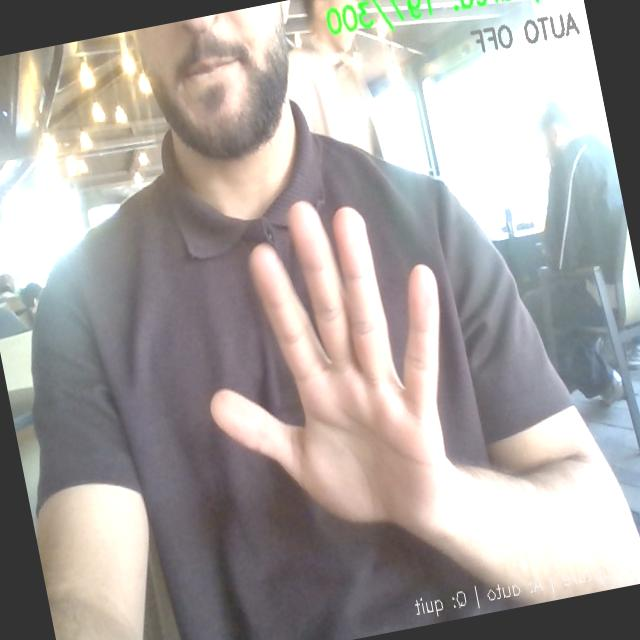Hand: (211, 203, 453, 529)
